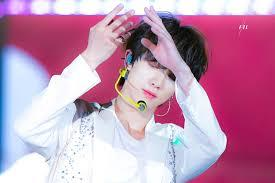earphone: (125, 55, 132, 65)
